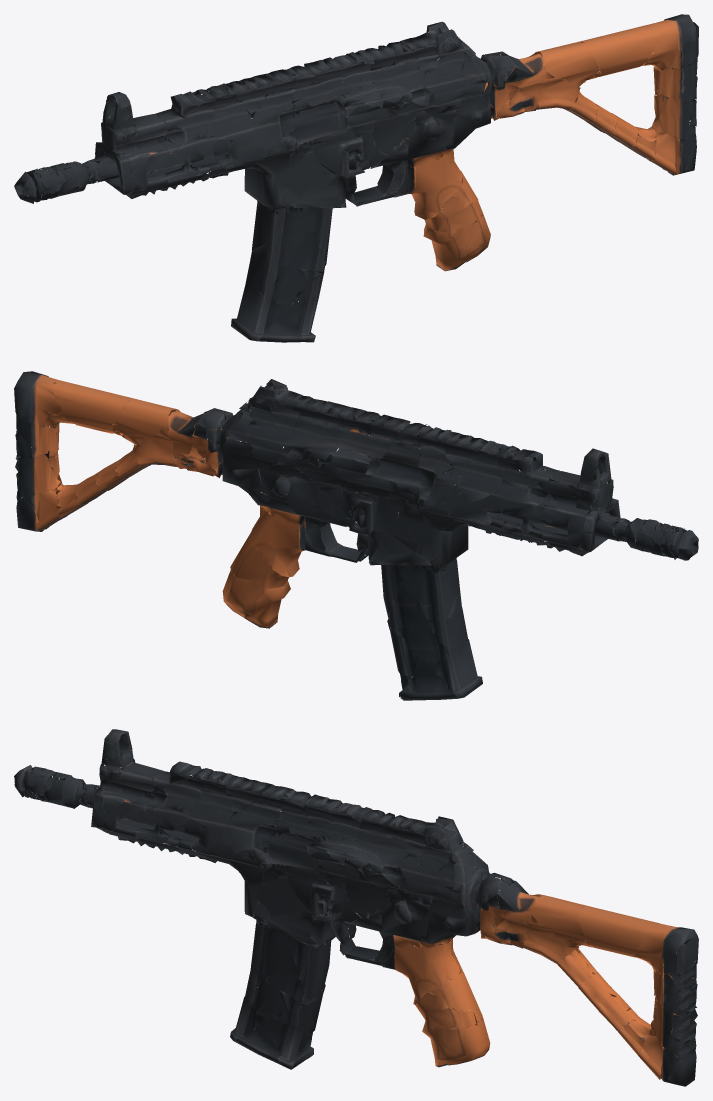
File: smg-meshy-low.glb
3 renders of one model, top to bottom at view 1: azimuth 30°, elevation 25°; view 2: azimuth 150°, elevation 25°; view 3: azimuth 330°, elevation 25°, orthographic.
Visible parts, largest first — view 1: Mesh_0.001; view 2: Mesh_0.001; view 3: Mesh_0.001.
Part boxes in pixels (x1,y1,x2,y2): Mesh_0.001: [14, 14, 698, 342]; Mesh_0.001: [14, 371, 698, 700]; Mesh_0.001: [14, 729, 698, 1086].
Size of the model in its own units: 1.9 by 0.7718 by 0.1934.
Materials: 1 (1 with a texture image).
